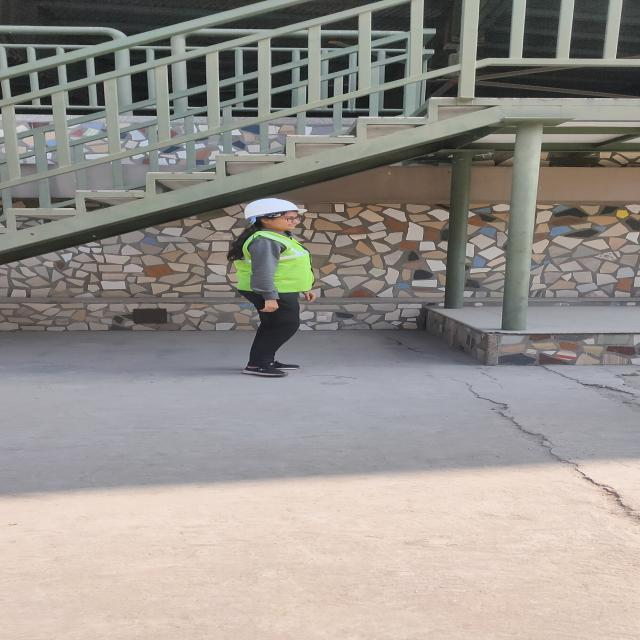safe: (229, 198, 315, 376)
